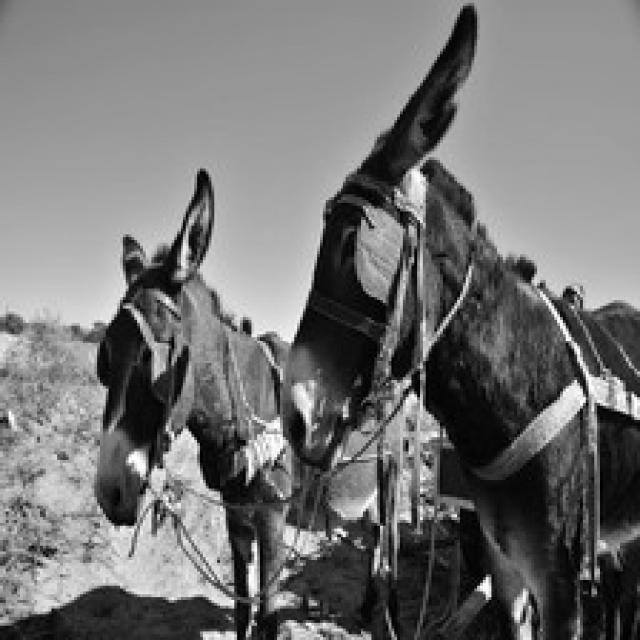Donkey: (277, 0, 637, 637), (92, 166, 294, 637)
